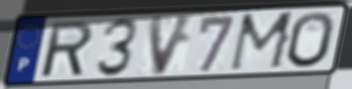3: (95, 16, 139, 79)
7: (195, 14, 239, 74)
M: (226, 9, 299, 74)
O: (284, 10, 337, 70)
R: (41, 19, 96, 80)
V: (146, 12, 198, 79)
